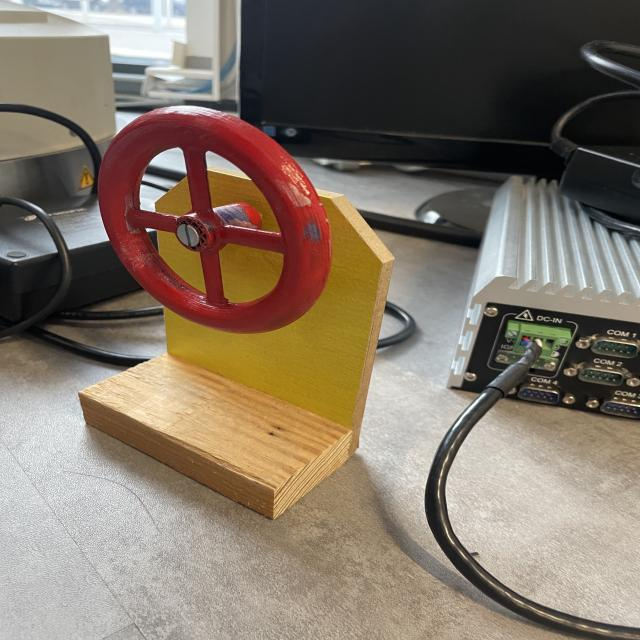Wheel Handle Valve Threaded: (88, 98, 336, 337)
